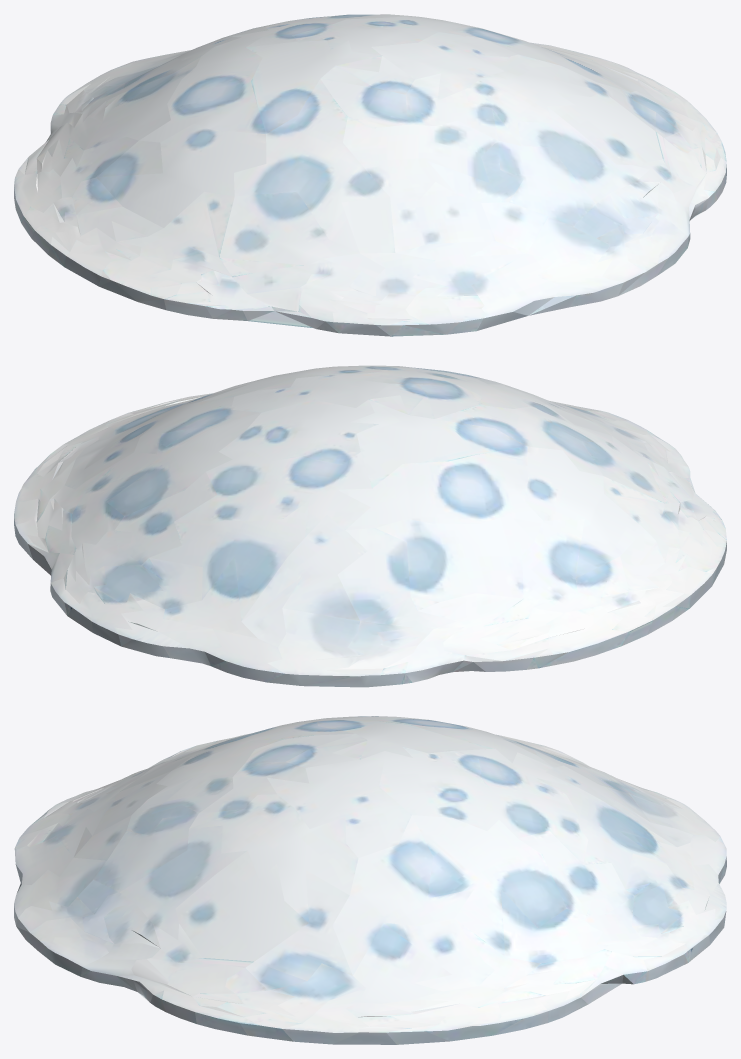
Rendered from snow_mound.glb.
3 views of the same model, one above another, from view 1: azimuth 30°, elevation 25°; view 2: azimuth 150°, elevation 25°; view 3: azimuth 270°, elevation 25° (orthographic).
Size of the model in its own units: 1.9 by 0.385 by 1.85.
Materials: 1 (1 with a texture image).
